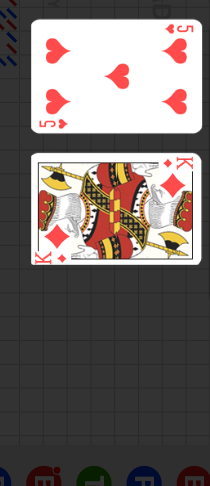5H: (38, 117, 69, 130)
KD: (34, 252, 68, 265)
